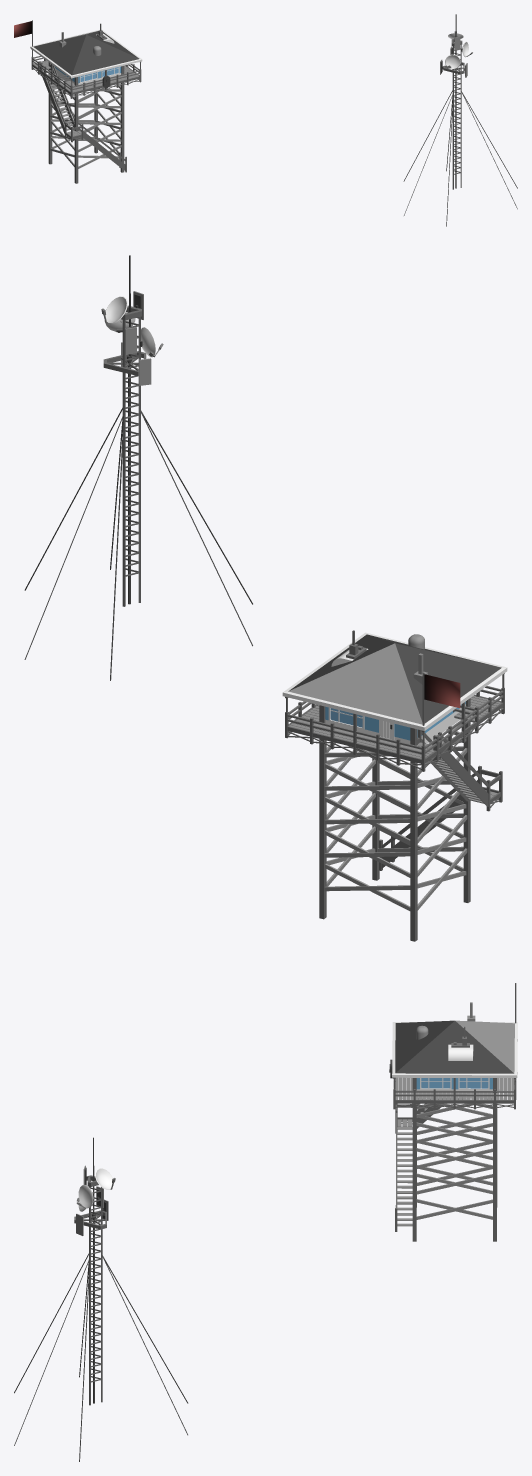
Rendered from Demo Environment.fbx.
The picture shows the model from 3 angles, top to bottom: view 1: azimuth 30°, elevation 25°; view 2: azimuth 150°, elevation 25°; view 3: azimuth 270°, elevation 25°; orthographic projection. The views are drawn at different scales.
Visible parts, largest first — view 1: Fire Lookout Tower, Radio Tower; view 2: Fire Lookout Tower, Radio Tower, Flag; view 3: Fire Lookout Tower, Radio Tower.
Part boxes in pixels (left/top/right/bottom): Fire Lookout Tower: left=30, top=20, right=142, bottom=183; Radio Tower: left=403, top=14, right=517, bottom=226; Fire Lookout Tower: left=282, top=630, right=507, bottom=941; Radio Tower: left=24, top=255, right=252, bottom=680; Flag: left=424, top=674, right=460, bottom=708; Fire Lookout Tower: left=389, top=983, right=517, bottom=1241; Radio Tower: left=14, top=1137, right=188, bottom=1461.
Size of what is drawn, in the model's own units: 7744 by 3790 by 6141.
